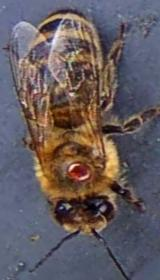varroa_mite: (58, 150, 98, 189)
